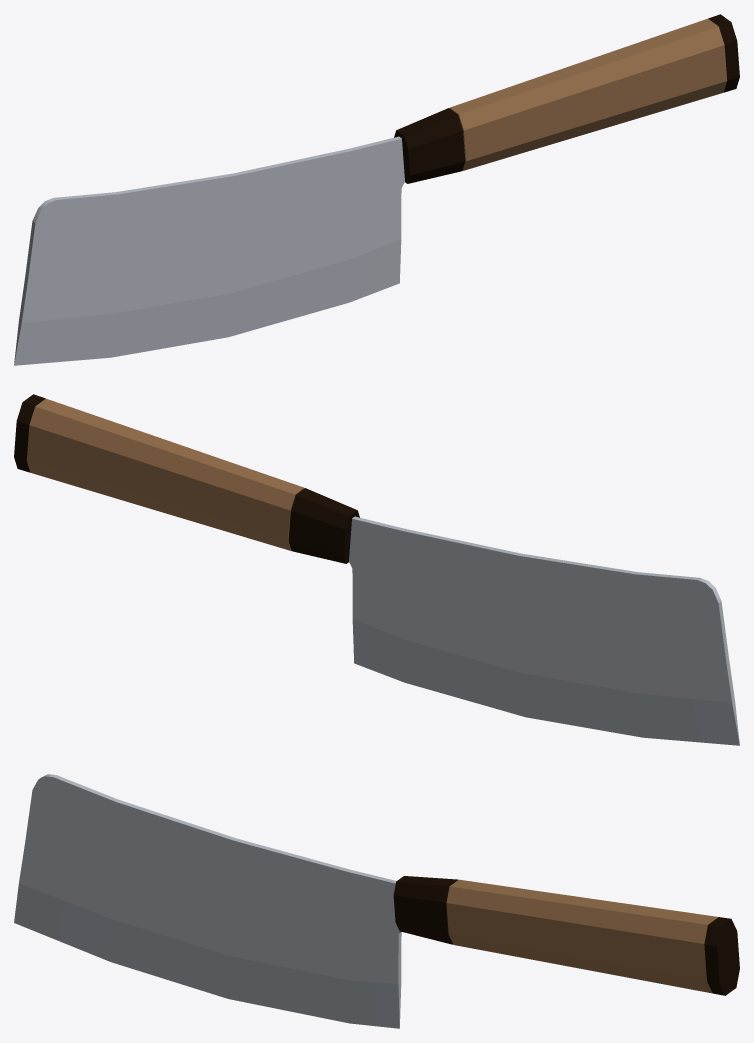
Rendered from SM_Knife_03.fbx.
3 views of the same model, one above another, from view 1: azimuth 30°, elevation 25°; view 2: azimuth 150°, elevation 25°; view 3: azimuth 330°, elevation 25° (orthographic).
Parts seen in each view (by area): view 1: SM_Knife_03; view 2: SM_Knife_03; view 3: SM_Knife_03.
Part boxes in pixels (bbox=[...]): SM_Knife_03: bbox=[14, 14, 739, 365]; SM_Knife_03: bbox=[14, 394, 739, 745]; SM_Knife_03: bbox=[14, 774, 739, 1028].
Bounding box in the file's own units: 31.62 × 8.33 × 1.55.
